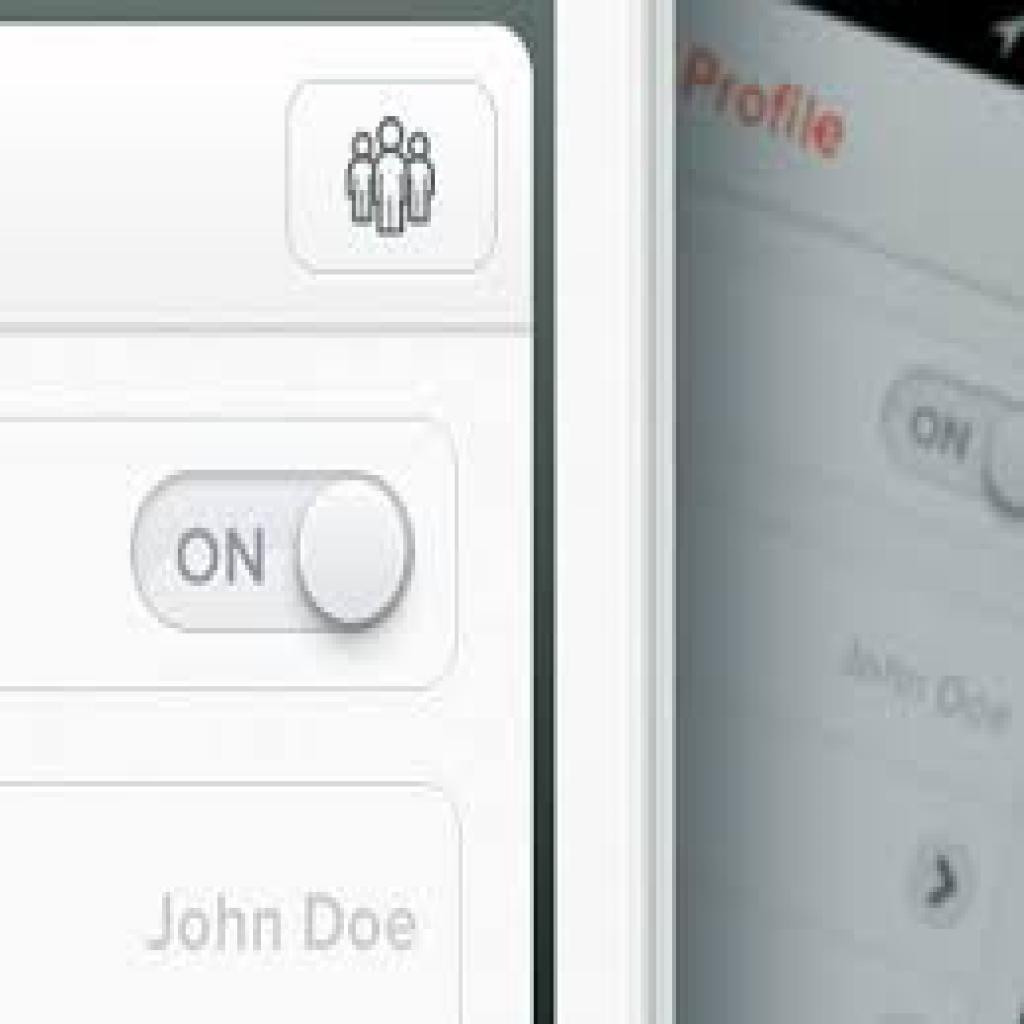switch: (132, 469, 417, 636)
